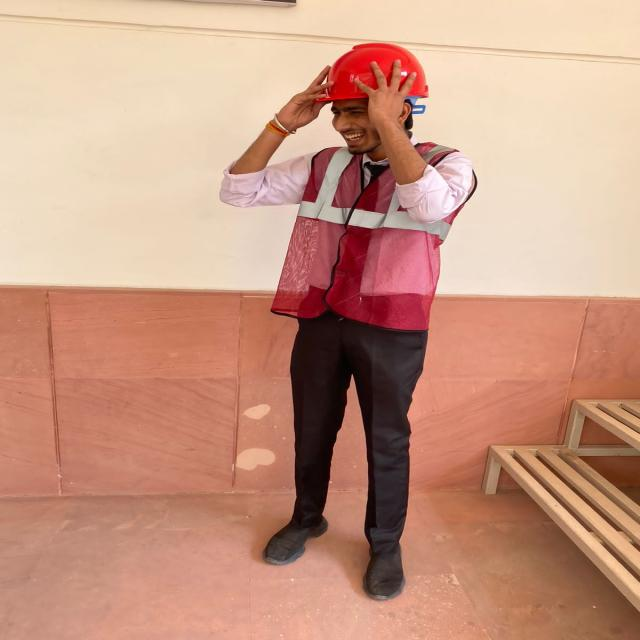safe: (270, 43, 478, 599)
